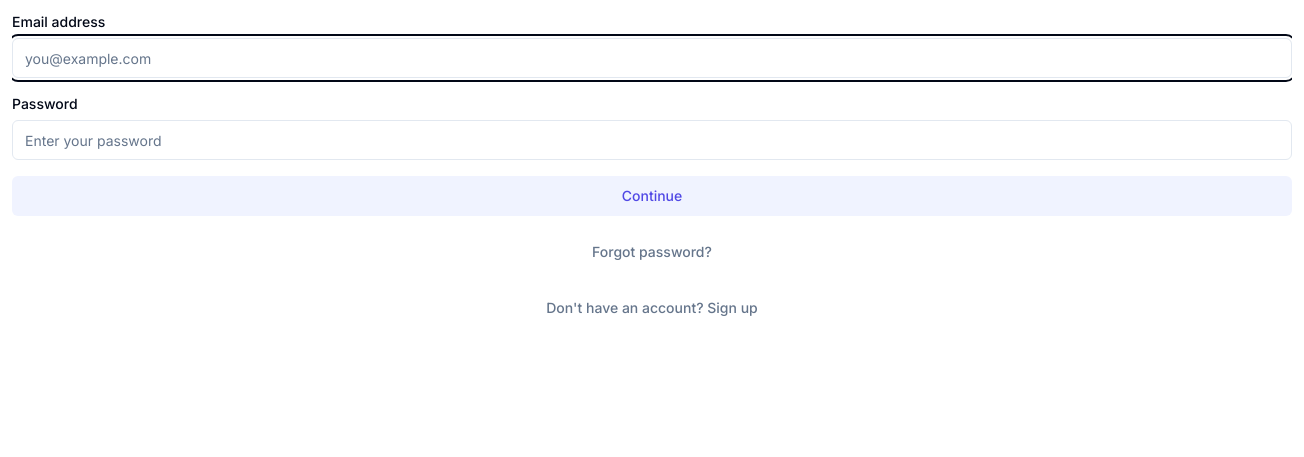
Scenario: EmailPasswordAuthForm › Mode switching › switches from sign-in to sign-up when toggle clicked
Click the button "Don't have an account? Sign up".
click(652, 308)  # box top-left (12, 288), bottom-right (1292, 328)
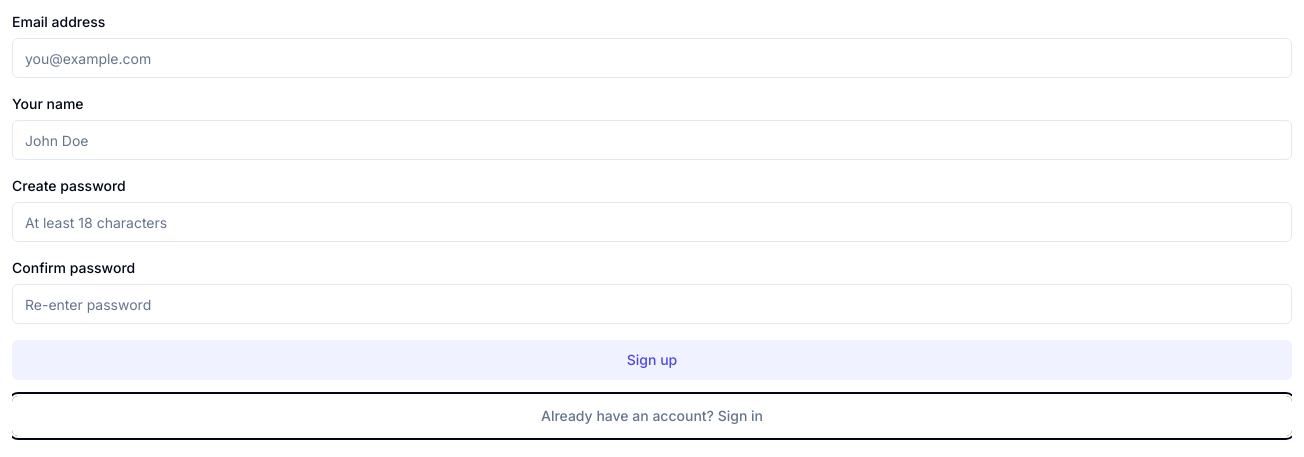
Now the field labelled "Your name" is shown, box top-left (12, 120), bottom-right (1292, 160)
Now the password field labelled "Confirm password" is shown, box top-left (12, 284), bottom-right (1292, 324)
